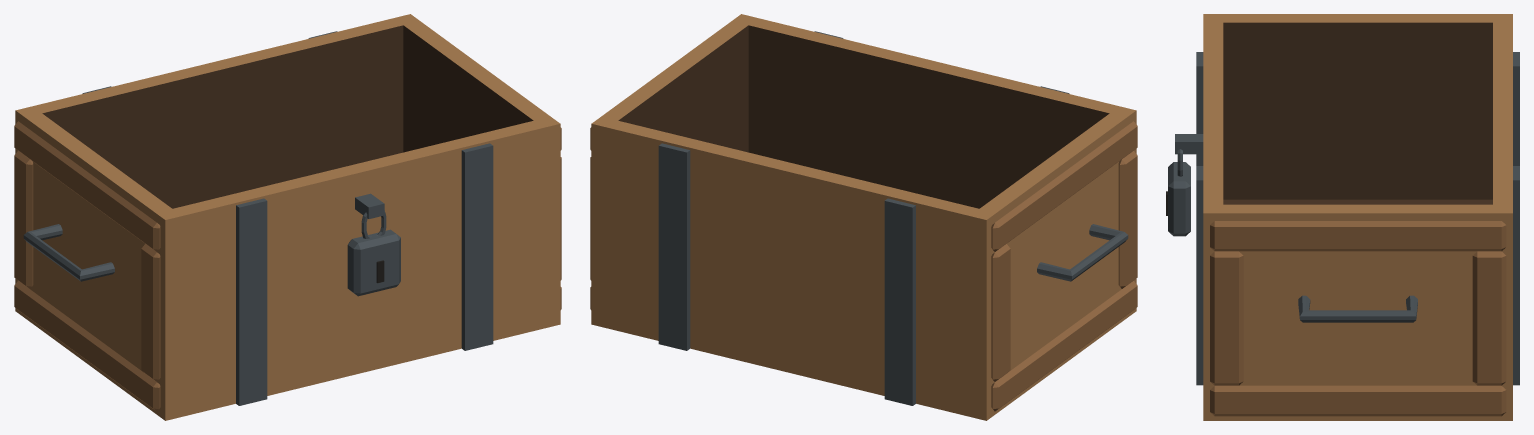
The model's file is mdvl_interiors_chest_01.glb.
3 views of the same model, side by side, from view 1: azimuth 30°, elevation 25°; view 2: azimuth 150°, elevation 25°; view 3: azimuth 270°, elevation 25° (orthographic). The views are drawn at different scales.
Visible parts, largest first — view 1: mdvl_interiors_chest_01; view 2: mdvl_interiors_chest_01; view 3: mdvl_interiors_chest_01.
Part boxes in pixels (left/top/right/bottom): mdvl_interiors_chest_01: left=14, top=14, right=561, bottom=420; mdvl_interiors_chest_01: left=590, top=14, right=1137, bottom=420; mdvl_interiors_chest_01: left=1166, top=14, right=1519, bottom=420.
Size of the model in its own units: 0.8367 by 0.34 by 0.525.
Materials: 1 (1 with a texture image).
